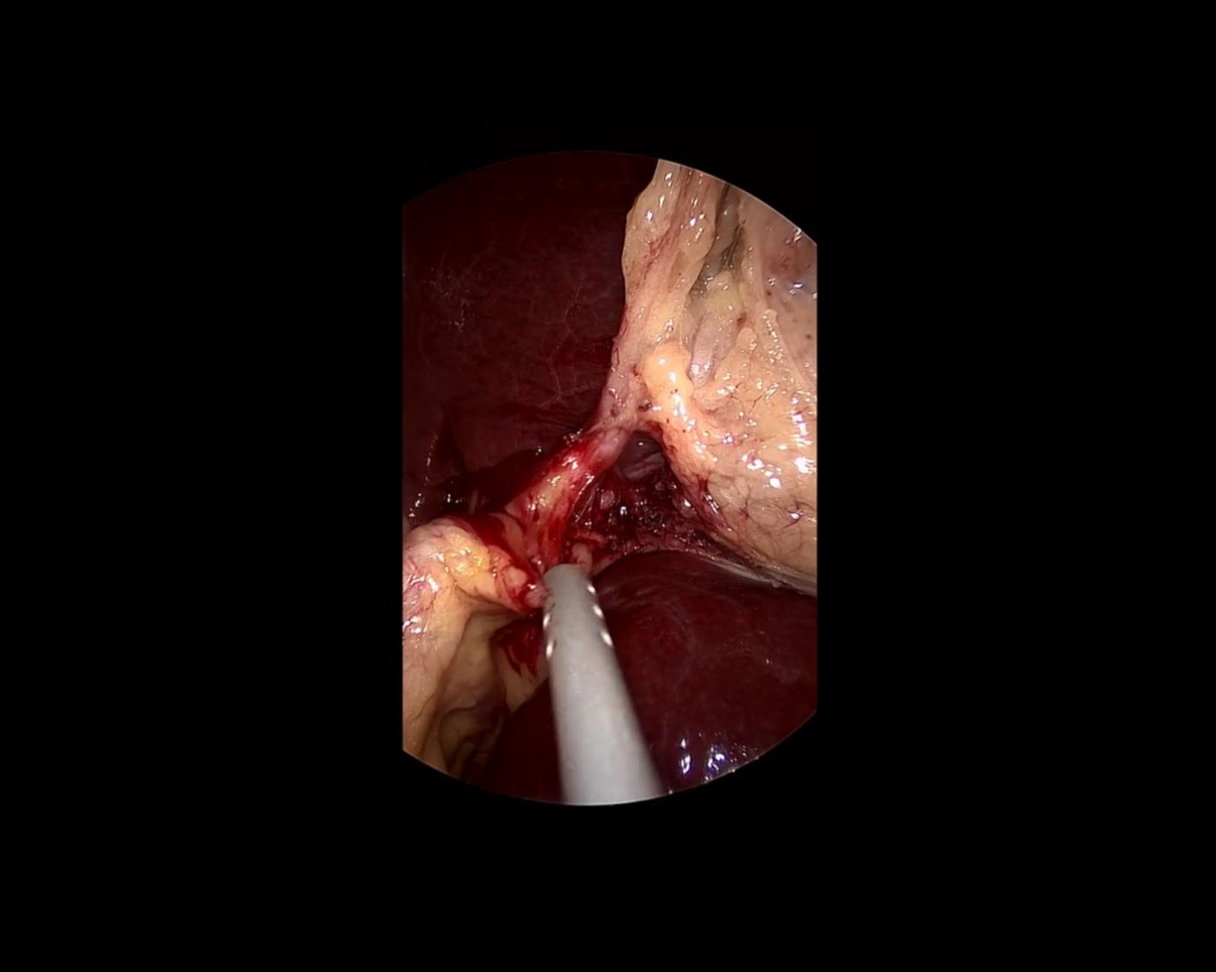Gallbladder: (620, 159, 816, 592)
Liver: (480, 512, 853, 896), (404, 156, 654, 519)
Suction: (535, 556, 663, 808)
